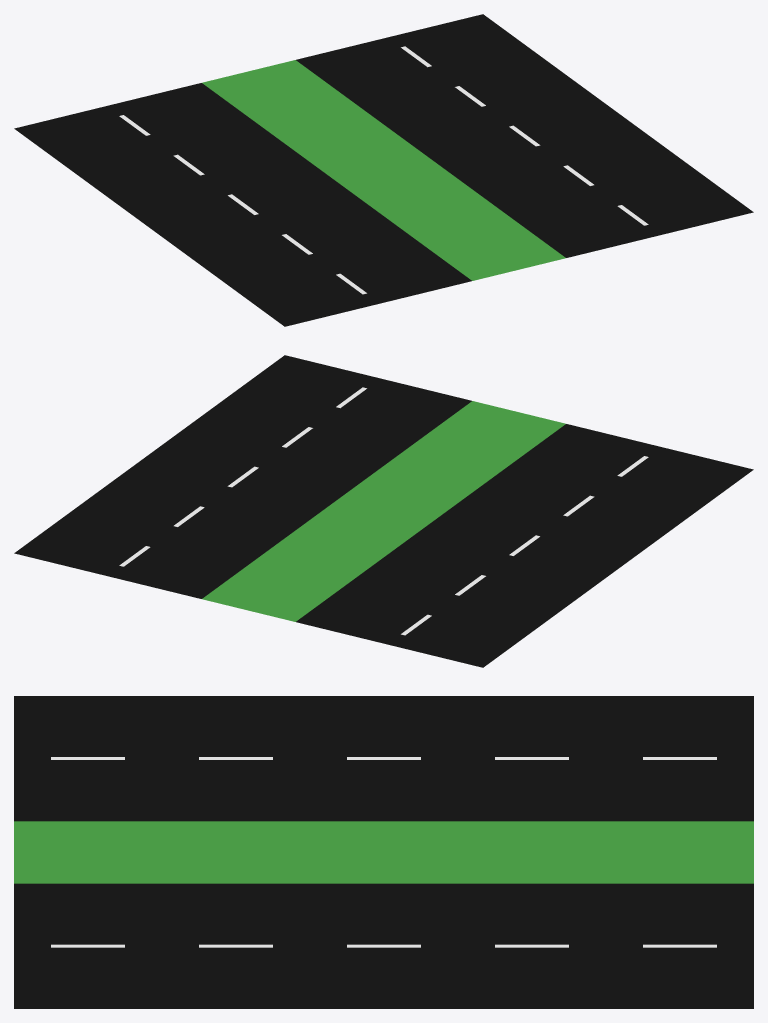
The model's file is Road_4_Lane.fbx.
The picture shows the model from 3 angles, top to bottom: view 1: azimuth 30°, elevation 25°; view 2: azimuth 150°, elevation 25°; view 3: azimuth 270°, elevation 25°; orthographic projection. The views are drawn at different scales.
Parts seen in each view (by area): view 1: Road_4_Lane; view 2: Road_4_Lane; view 3: Road_4_Lane.
Boxes of the visible parts, bbox=[...] form: Road_4_Lane: bbox=[14, 14, 753, 326]; Road_4_Lane: bbox=[14, 355, 753, 667]; Road_4_Lane: bbox=[14, 696, 753, 1008].
Size of the model in its own units: 500 by 0.1 by 500.
